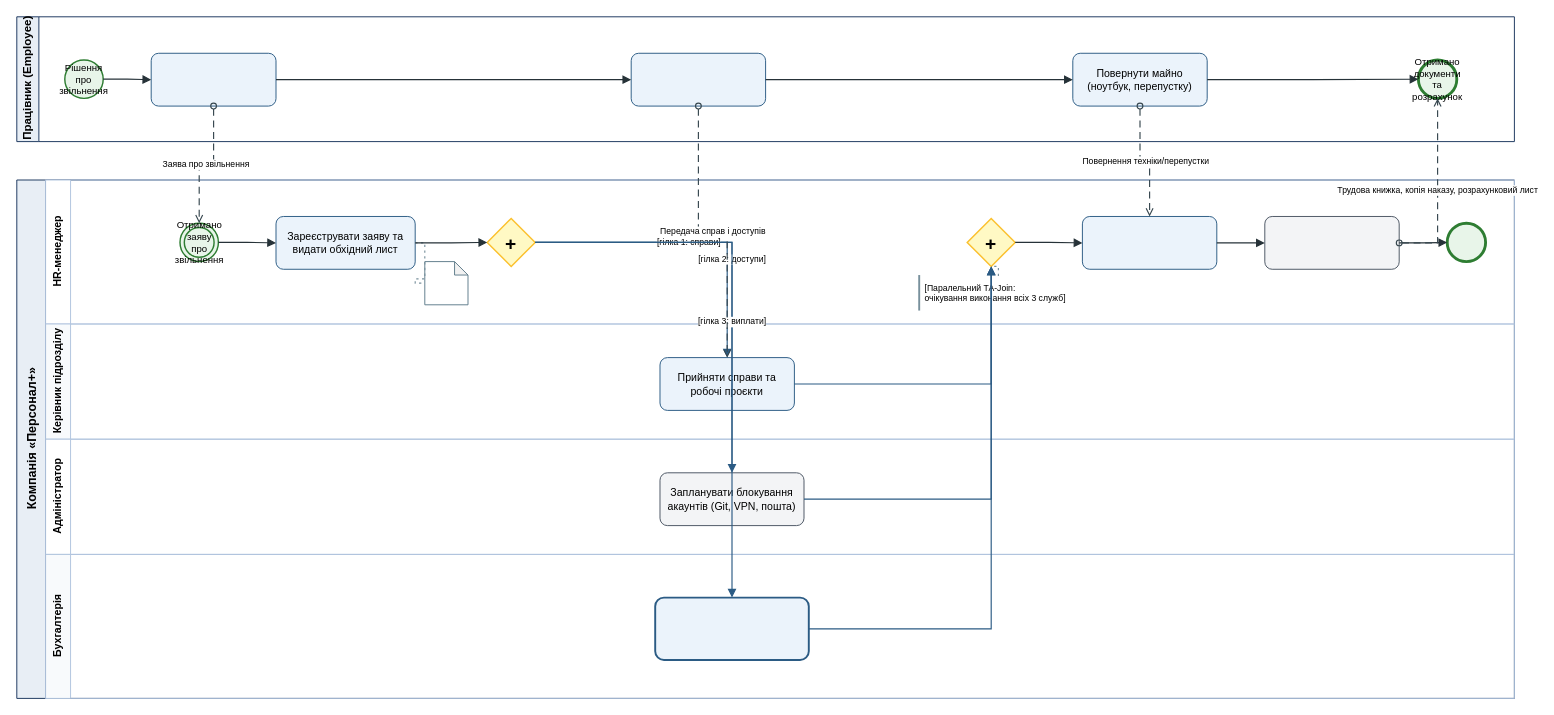
Some shapes in this 1554 by 715 pixel diagram are drawn without their labels. Each missing label, with the centre of its shape:
"Видати трудову книжку та копію наказу" belongs at (1331,242).
"Звільнення успішно оформлено" belongs at (1466,242).
"Обхідний лист (Checklist)" belongs at (446,283).
"Передати справи та робочі проєкти" belongs at (698,79).
"Подати заяву про звільнення" belongs at (213,79).
"Прийняти майно та підписати обхідний" belongs at (1149,242).
"Розрахувати компенсацію відпусток та виплати [Підпроцес: 1С/Бухгалтерія]" belongs at (731,628).
